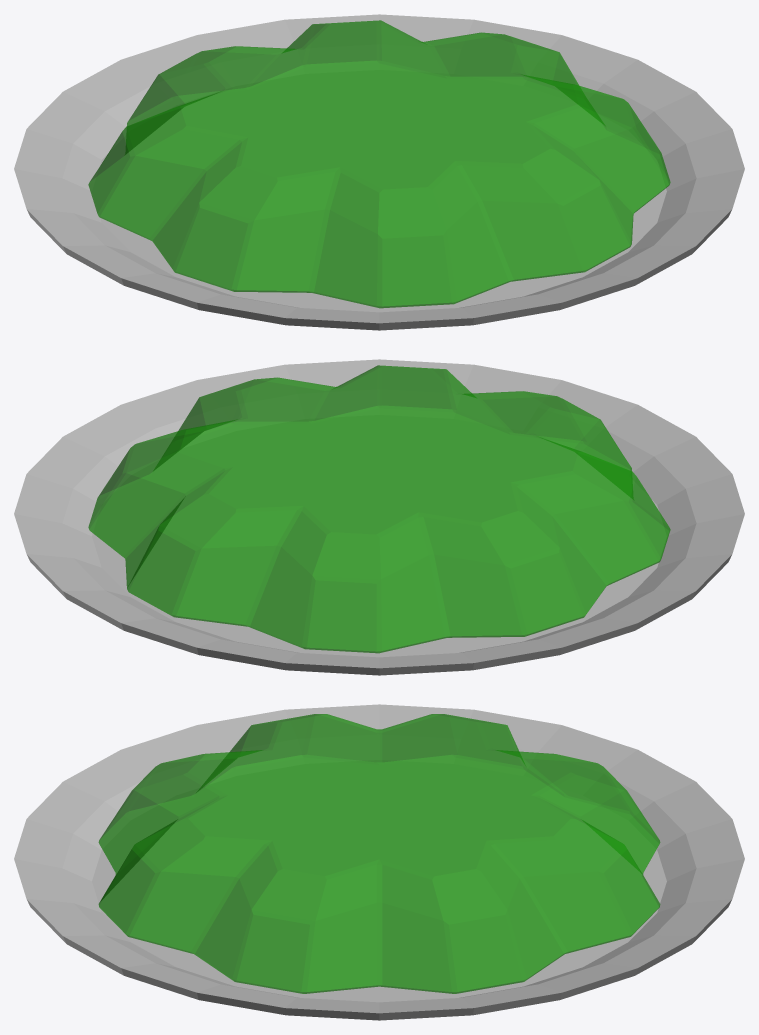
File: JellyBevel.fbx
The picture shows the model from 3 angles, top to bottom: view 1: azimuth 30°, elevation 25°; view 2: azimuth 150°, elevation 25°; view 3: azimuth 270°, elevation 25°; orthographic projection.
Parts seen in each view (by area): view 1: Plate, Jelly; view 2: Plate, Jelly; view 3: Plate, Jelly.
Part boxes in pixels (<box>): Plate: <box>14,14,744,330</box>; Jelly: <box>88,20,670,308</box>; Plate: <box>14,359,744,675</box>; Jelly: <box>88,365,670,653</box>; Plate: <box>14,704,744,1020</box>; Jelly: <box>98,714,660,993</box>.
Bounding box in the file's own units: 250 × 35.17 × 250.
